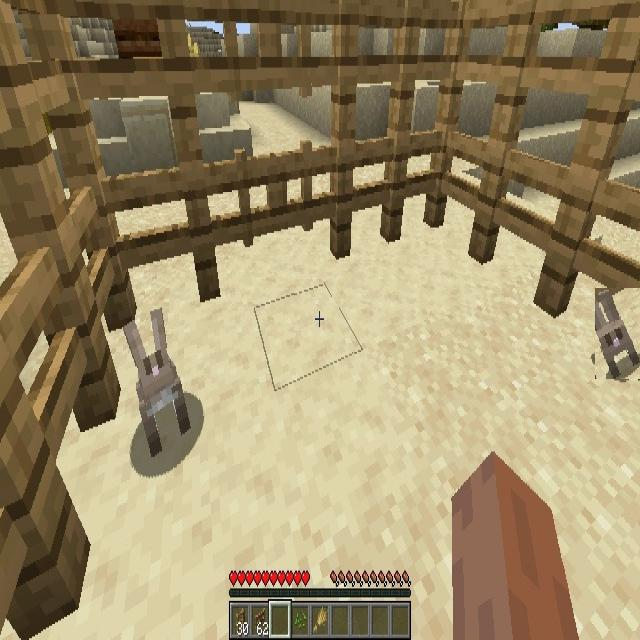rabbit: (128, 314, 188, 456), (595, 288, 640, 379)
